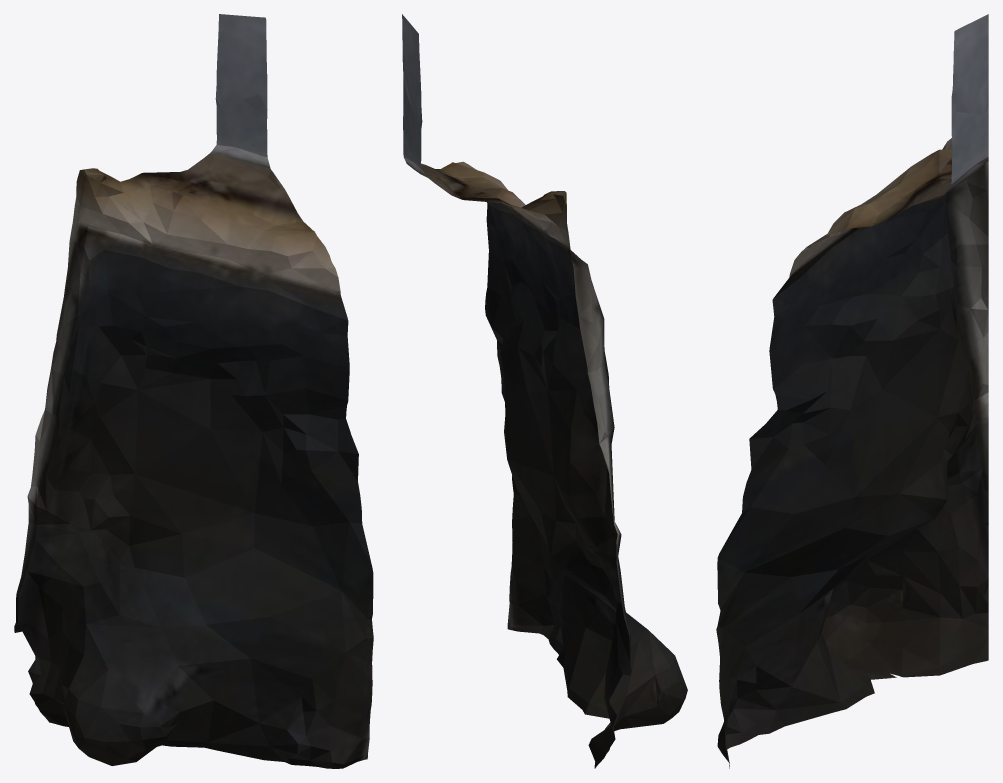
3 renders of one model, left to right at view 1: azimuth 30°, elevation 25°; view 2: azimuth 150°, elevation 25°; view 3: azimuth 270°, elevation 25°, orthographic. The views are drawn at different scales.
Bounding box in the file's own units: 0.3106 × 0.8374 × 0.2801.
1 material, 1 textured.
